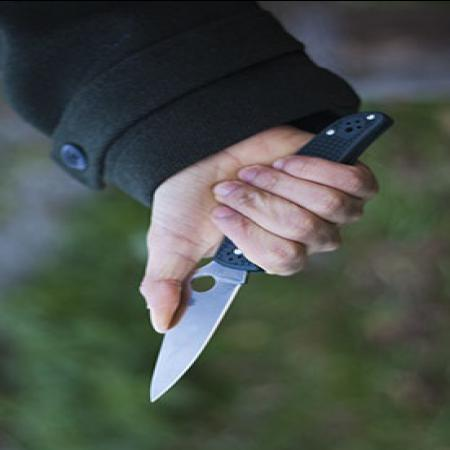long weapon: (132, 212, 316, 408)
